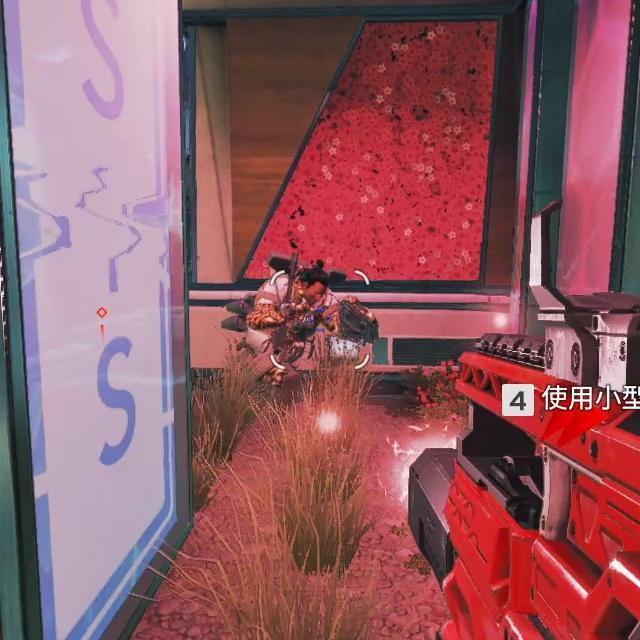avatar: (242, 256, 341, 390)
